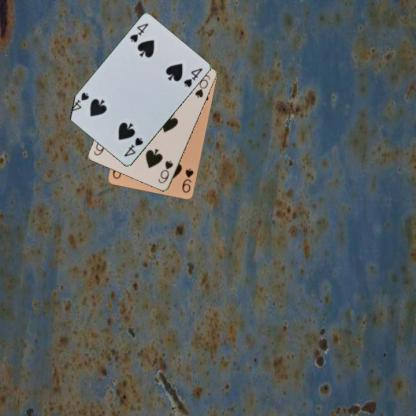4s: (121, 134, 144, 158), (127, 21, 150, 44)
6s: (156, 158, 174, 185)
9s: (180, 166, 194, 194)
